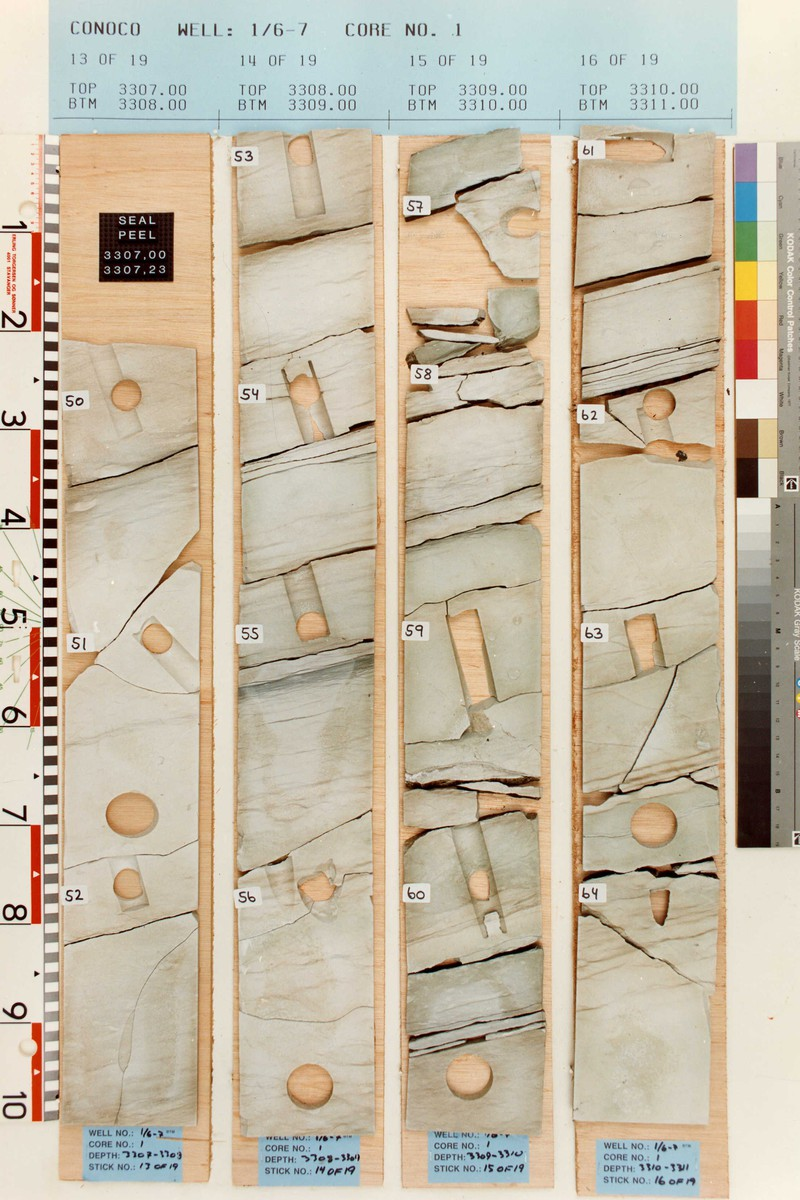core: (229, 130, 381, 1137), (577, 125, 724, 1130), (402, 131, 547, 1134), (56, 338, 204, 1127)
